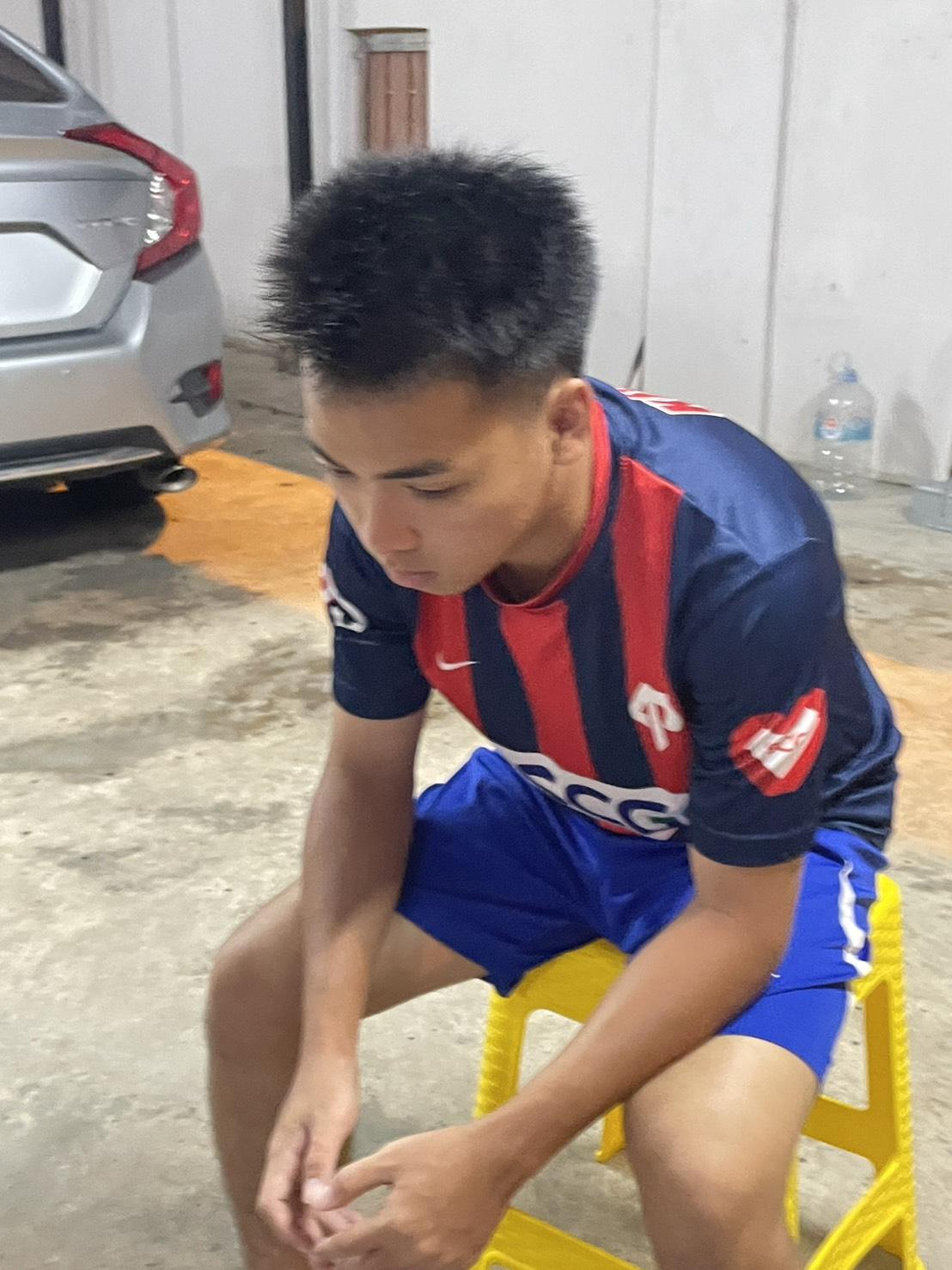BadPosture: (269, 150, 897, 990)
